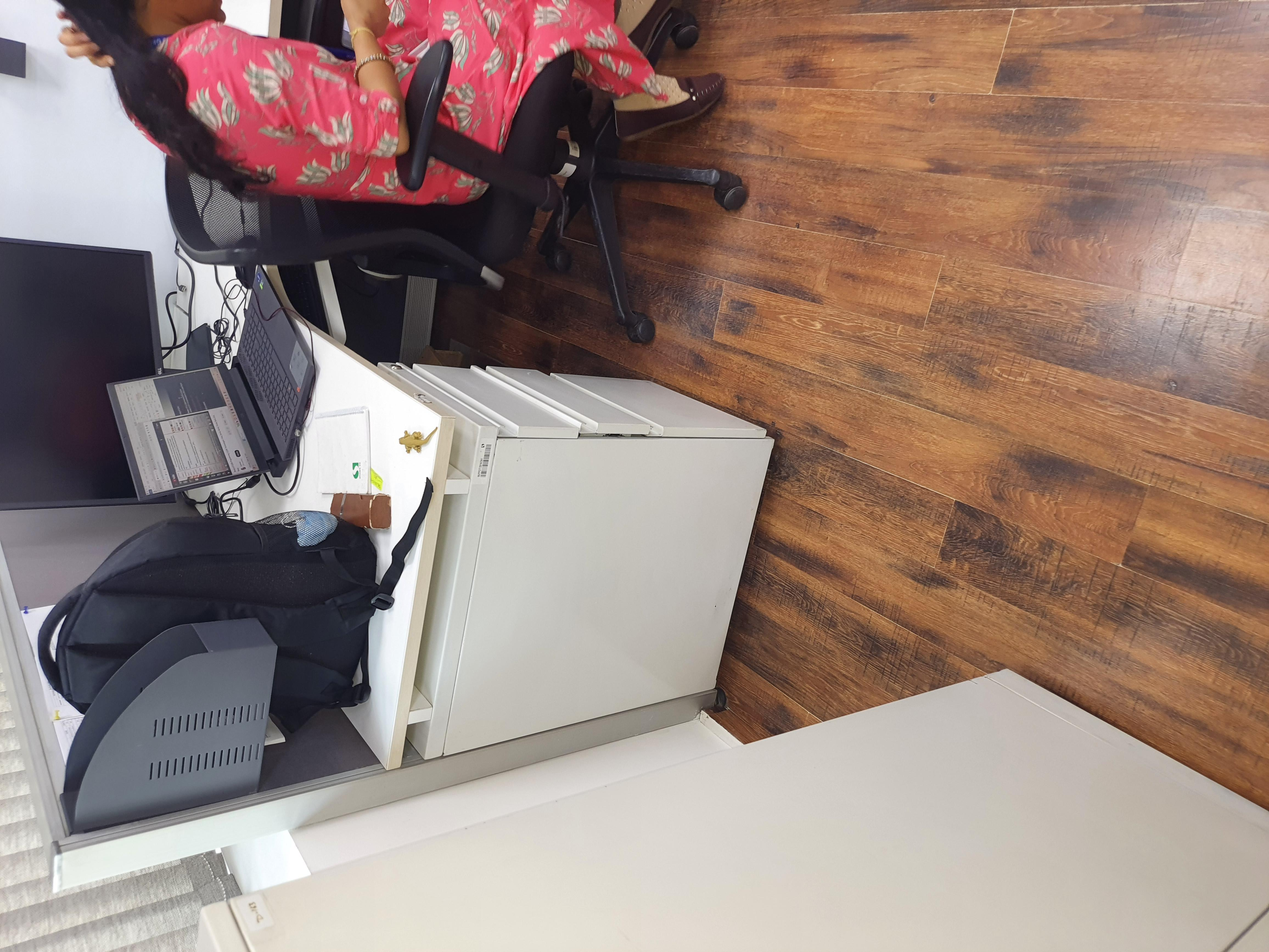lizard: (648, 287, 707, 333)
